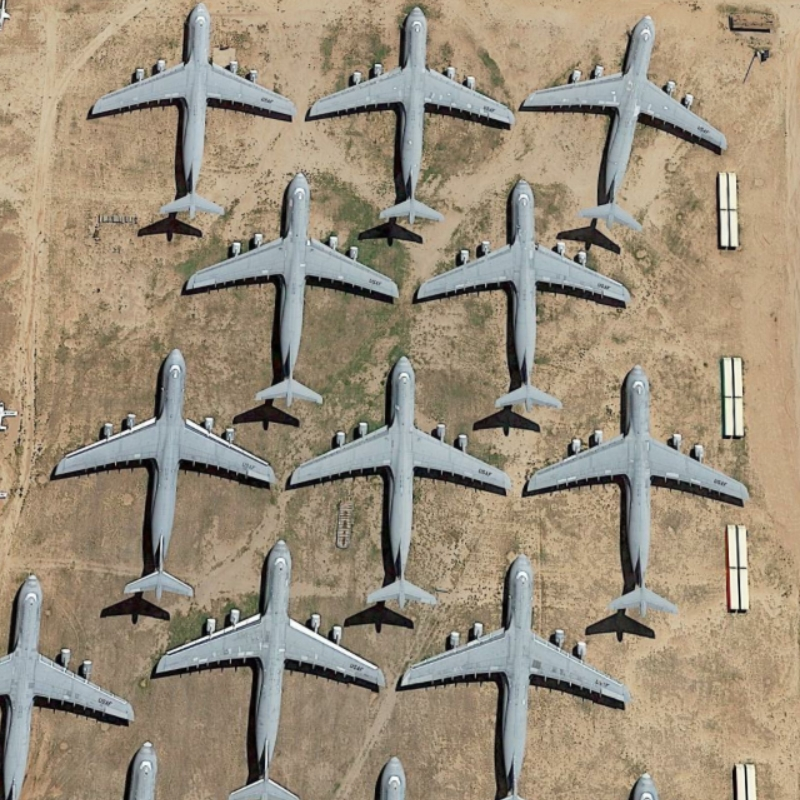A4: (145, 533, 393, 799), (518, 363, 760, 628), (46, 344, 281, 612), (397, 544, 639, 800), (287, 351, 513, 612), (412, 173, 640, 419), (182, 166, 403, 411), (84, 3, 302, 223), (307, 1, 515, 231), (518, 12, 732, 225)
